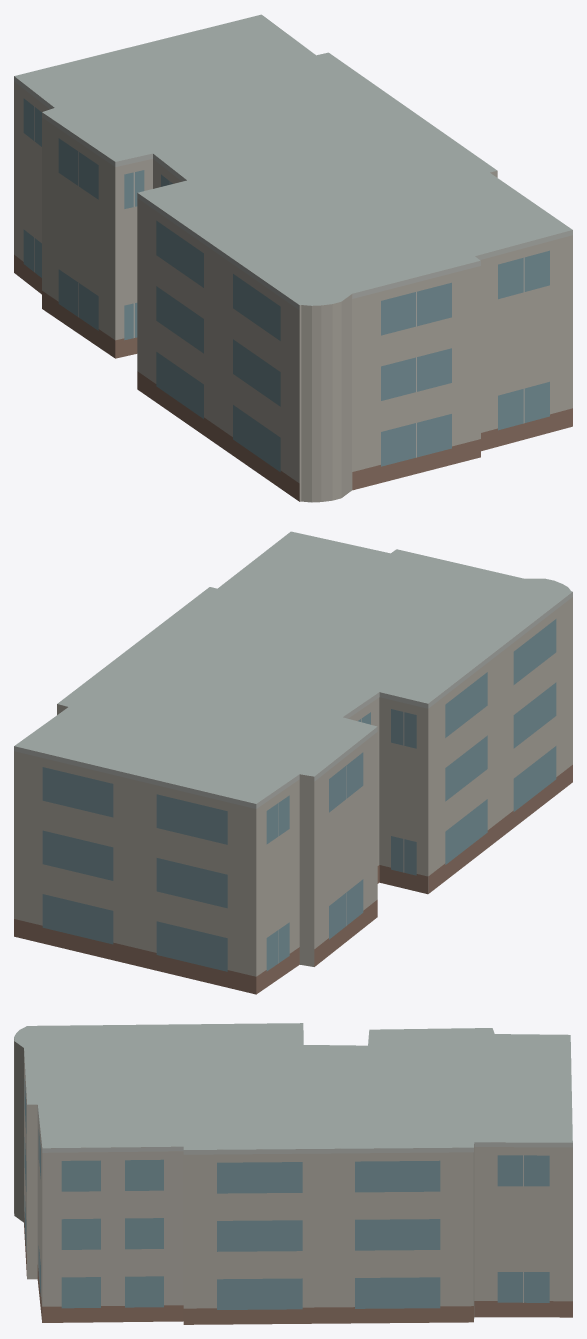
Rendered from survey-upis-32478215.glb.
3 renders of one model, top to bottom at view 1: azimuth 30°, elevation 25°; view 2: azimuth 150°, elevation 25°; view 3: azimuth 270°, elevation 25°, orthographic. The views are drawn at different scales.
Visible parts, largest first — view 1: survey-upis-32478215.tmp; view 2: survey-upis-32478215.tmp; view 3: survey-upis-32478215.tmp.
Boxes of the visible parts, box(x1,y1,x2,y2) form: survey-upis-32478215.tmp: box(14, 14, 572, 502); survey-upis-32478215.tmp: box(14, 531, 572, 994); survey-upis-32478215.tmp: box(14, 1023, 572, 1324).
Size of the model in its own units: 14.27 by 9.15 by 26.53.
